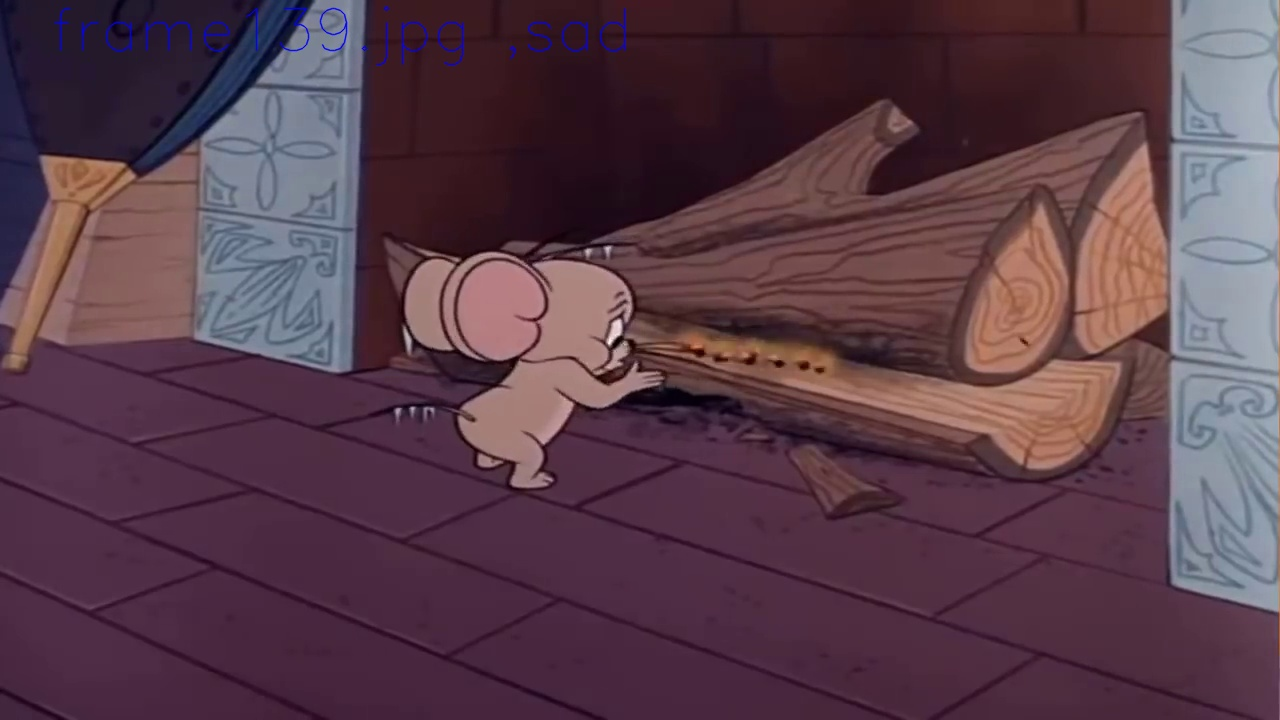sad: (606, 291, 634, 369)
